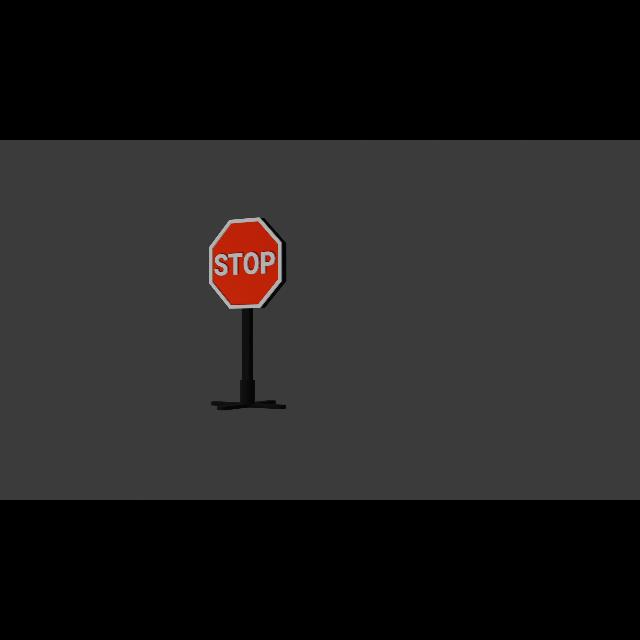sign_stop: (209, 218, 285, 310)
